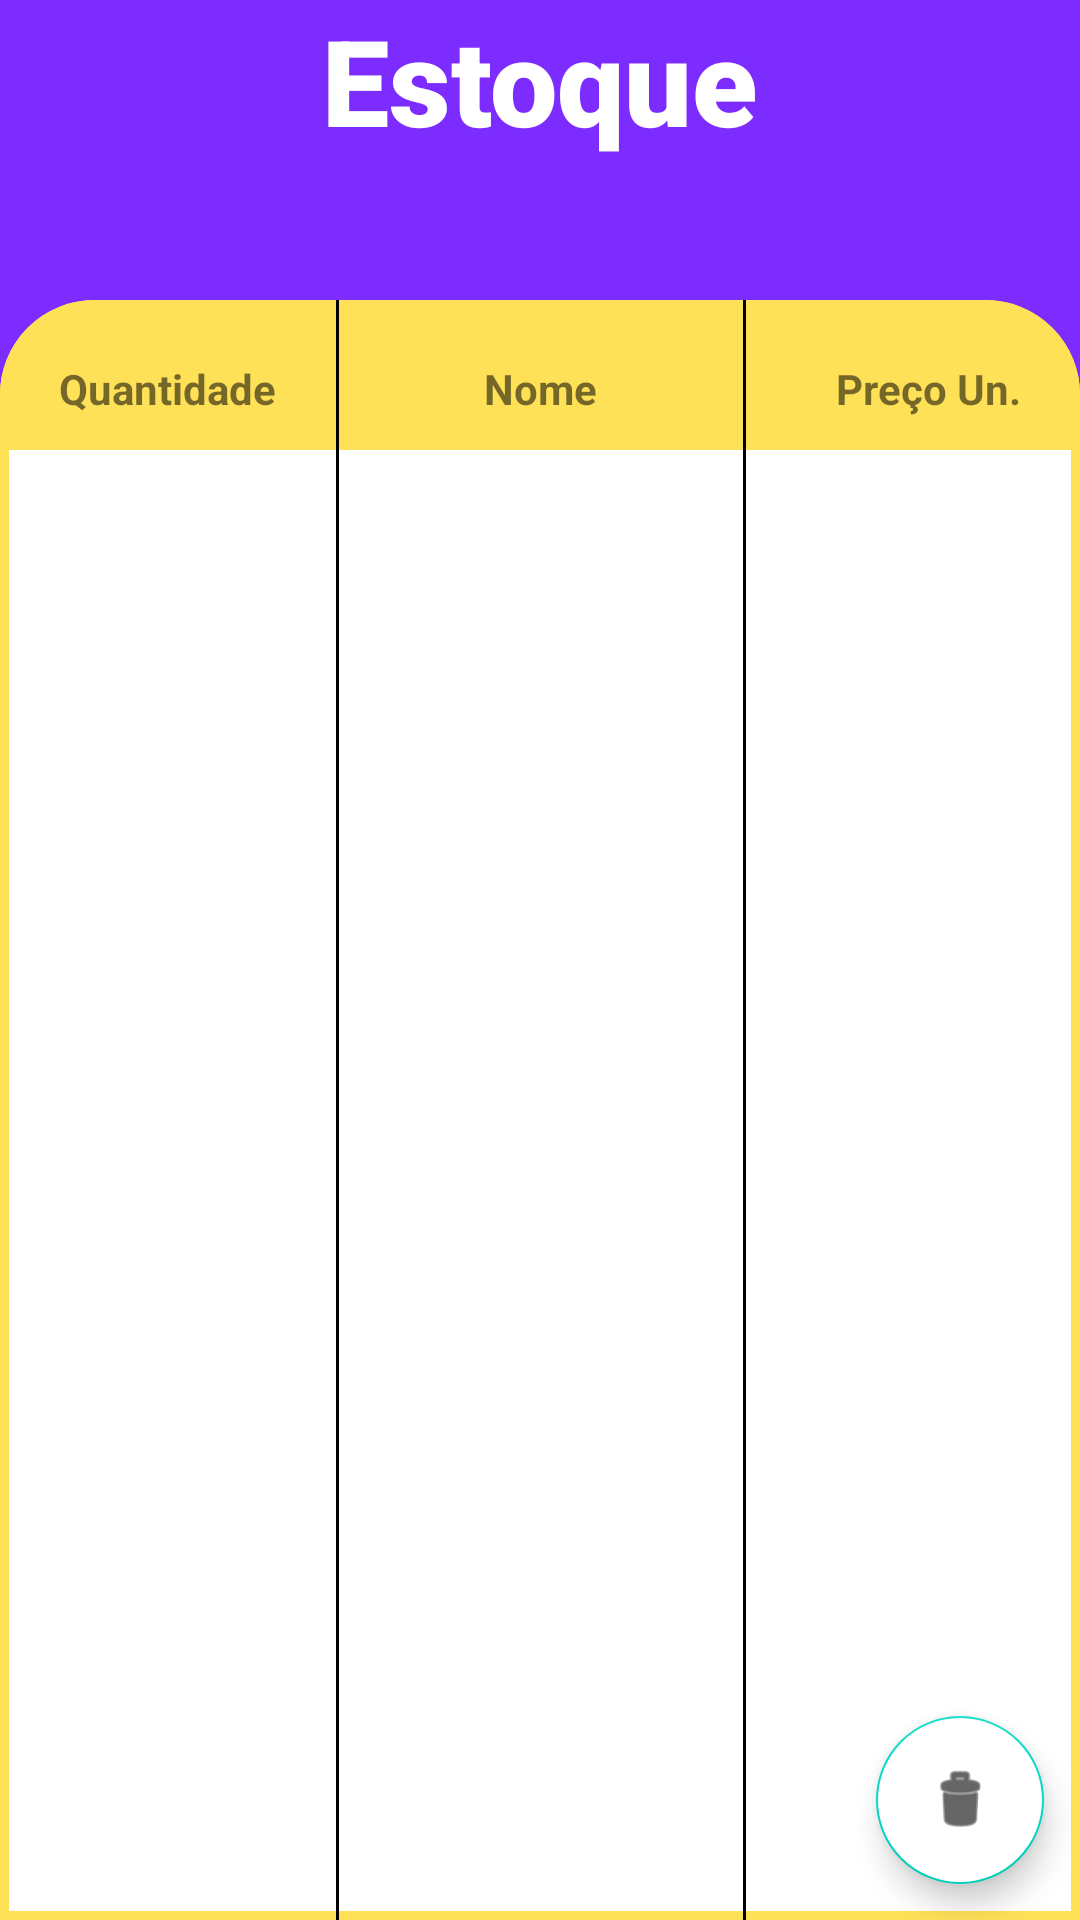

Screen size 1080 x 1920. Icon name, then its center in pixels as point (x, y):
delete: point (960, 1800)
